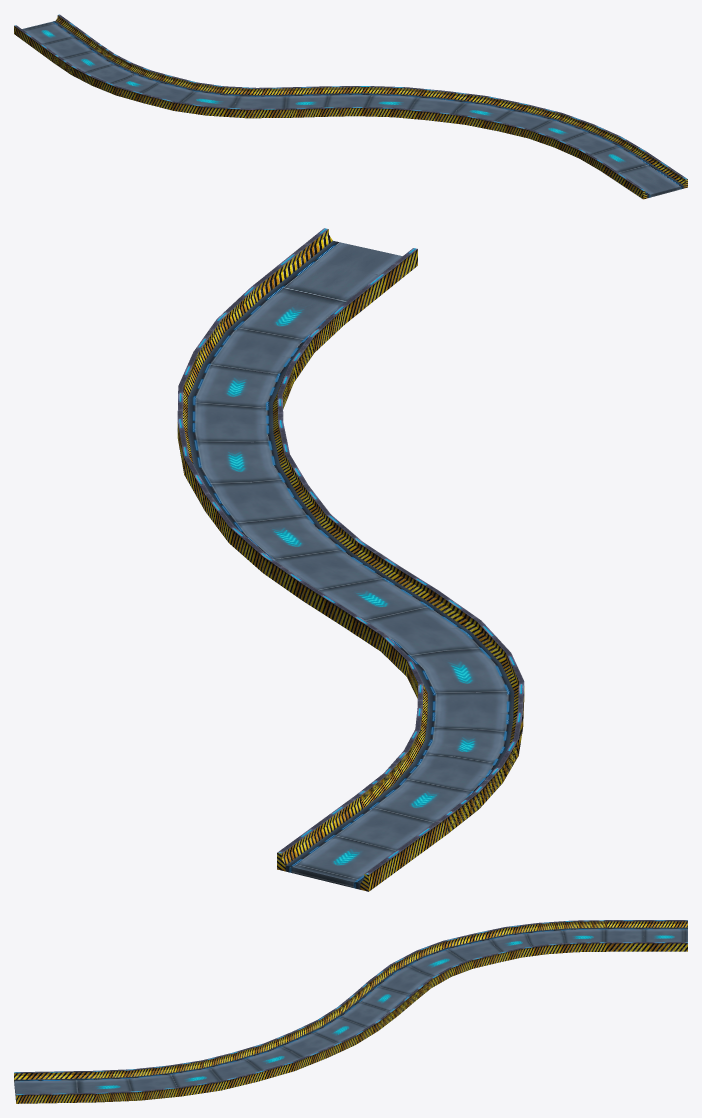
3 renders of one model, top to bottom at view 1: azimuth 30°, elevation 25°; view 2: azimuth 150°, elevation 25°; view 3: azimuth 270°, elevation 25°, orthographic. The views are drawn at different scales.
Parts seen in each view (by area): view 1: Object002; view 2: Object002; view 3: Object002.
Part boxes in pixels (<box>): Object002: <box>14,14,687,199</box>; Object002: <box>177,228,524,891</box>; Object002: <box>14,920,687,1103</box>.
Bounding box in the file's own units: 137 × 3.16 × 222.
